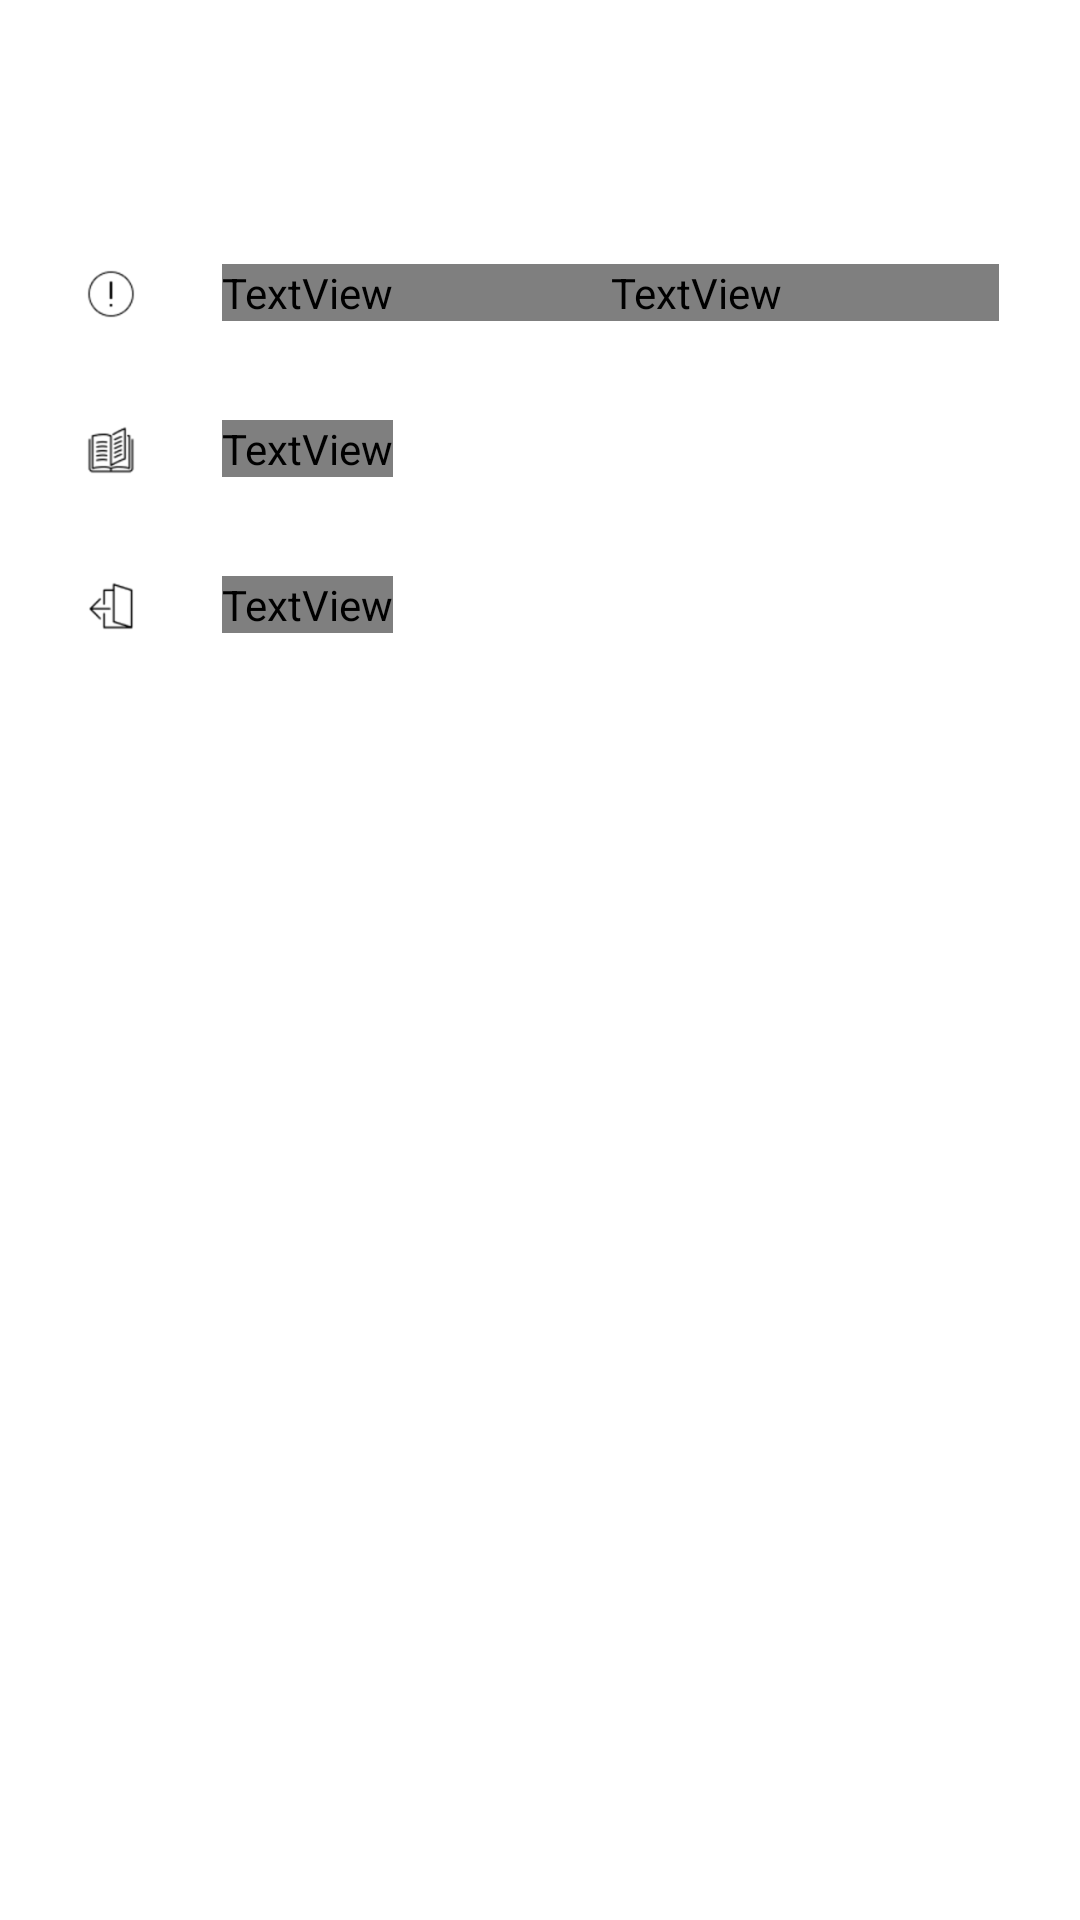

Locate icon controls on the screen. Image size 1080px×1920px, boxes as (x1, y1, x2, y2).
book: (88, 427, 134, 473)
exit: (89, 583, 133, 629)
